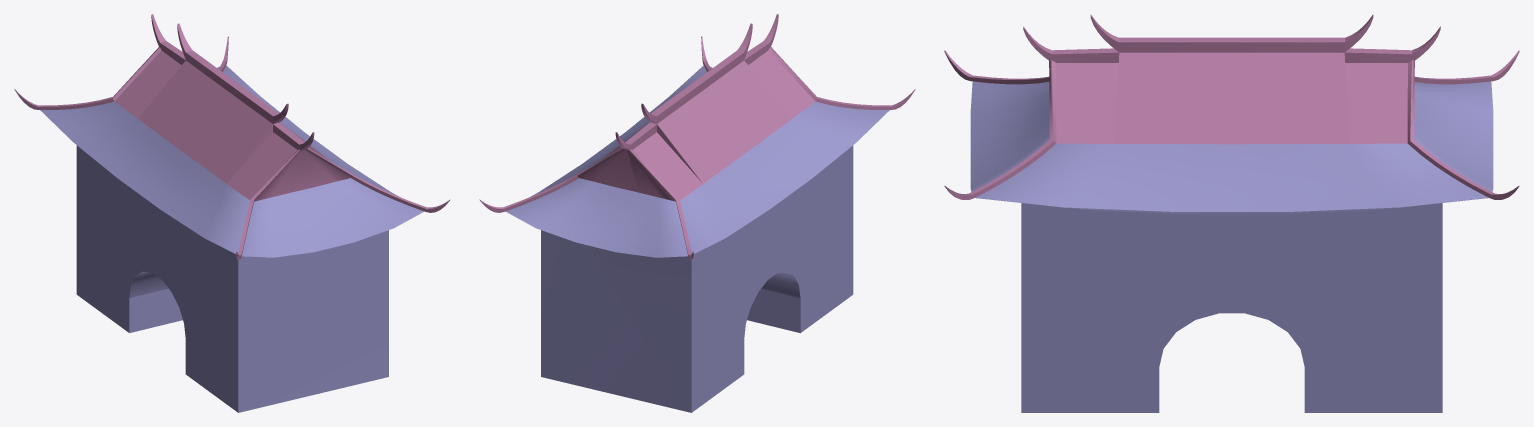
3 renders of one model, left to right at view 1: azimuth 30°, elevation 25°; view 2: azimuth 150°, elevation 25°; view 3: azimuth 270°, elevation 25°, orthographic. The views are drawn at different scales.
Parts seen in each view (by area): view 1: Box002; view 2: Box002; view 3: Box002.
Part boxes in pixels (x1,y1,x2,y2): Box002: (14, 14, 450, 412); Box002: (479, 14, 915, 412); Box002: (944, 14, 1519, 412).
Size of the model in its own units: 214 by 259 by 384.
